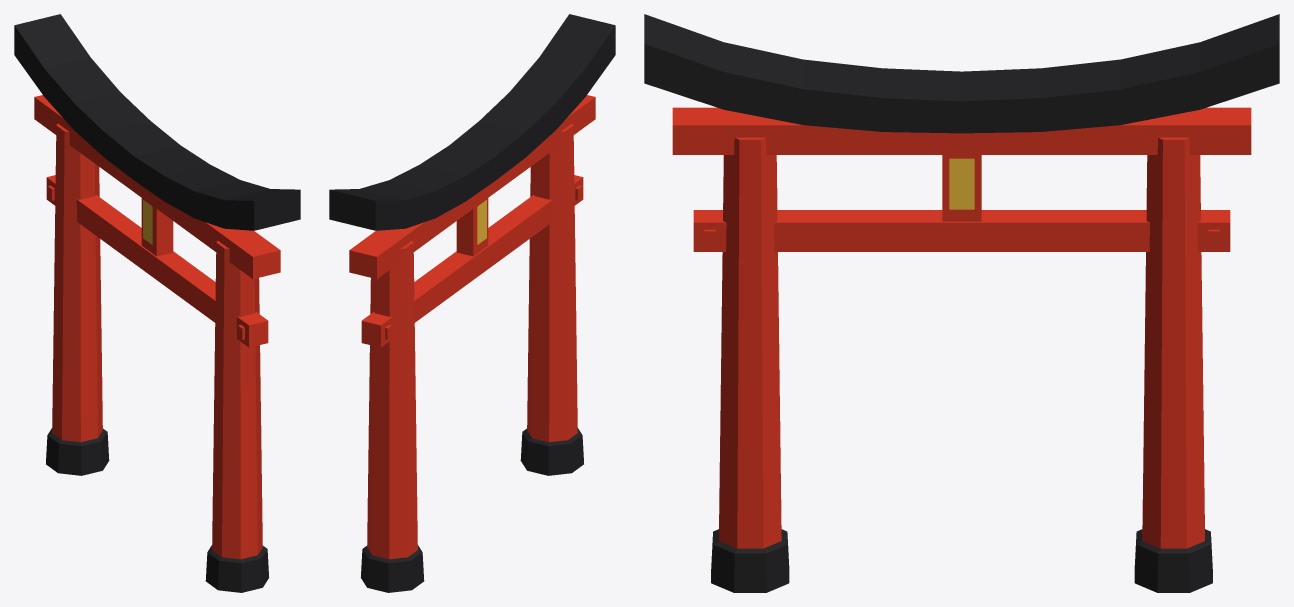
Rendered from torii.glb.
3 renders of one model, left to right at view 1: azimuth 30°, elevation 25°; view 2: azimuth 150°, elevation 25°; view 3: azimuth 270°, elevation 25°, orthographic. The views are drawn at different scales.
Visible parts, largest first — view 1: torii; view 2: torii; view 3: torii.
Boxes of the visible parts, x1,y1,x2,y2 form: torii: (14,14,300,592); torii: (329,14,615,592); torii: (644,14,1279,592).
Bounding box in the file's own units: 0.1109 × 0.856 × 0.9.
